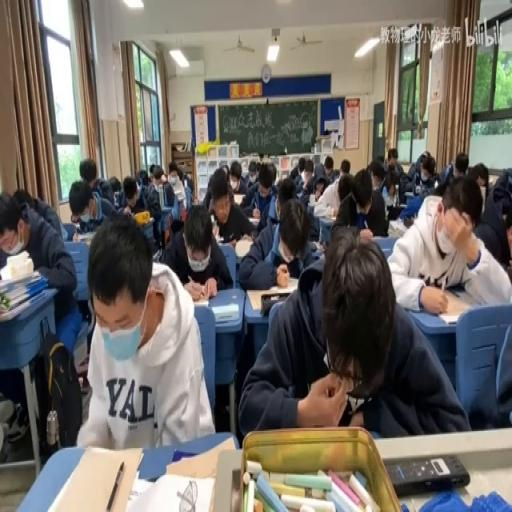calculator: (40, 444, 144, 509), (124, 469, 216, 509), (164, 434, 234, 479), (428, 284, 474, 322), (246, 283, 298, 310), (0, 289, 45, 320), (0, 268, 42, 292), (212, 302, 238, 322), (234, 238, 252, 258), (312, 202, 334, 218), (387, 218, 406, 236), (75, 230, 95, 244), (191, 296, 210, 306), (136, 214, 153, 224), (232, 192, 245, 205), (310, 240, 324, 252), (246, 214, 260, 224), (384, 192, 394, 206), (487, 175, 498, 186), (309, 193, 316, 205), (394, 202, 406, 209), (405, 190, 414, 198)
paper: (238, 224, 464, 440), (0, 189, 77, 448), (162, 201, 230, 290), (467, 312, 512, 430), (330, 168, 386, 237), (474, 170, 511, 268), (290, 173, 330, 242), (121, 172, 160, 242), (242, 160, 280, 224), (404, 150, 440, 200), (78, 156, 114, 206), (153, 160, 181, 214), (202, 164, 234, 210), (438, 149, 470, 192), (378, 145, 404, 192), (275, 178, 295, 206), (12, 188, 32, 212), (322, 155, 338, 182), (179, 165, 192, 195), (108, 175, 122, 200), (370, 172, 384, 191), (123, 185, 137, 203), (267, 162, 277, 184), (137, 168, 149, 186), (296, 155, 306, 176), (229, 166, 240, 184), (315, 181, 325, 199), (340, 158, 350, 175), (290, 164, 299, 180), (152, 170, 162, 184), (420, 156, 430, 170), (248, 169, 258, 182), (221, 164, 229, 179), (304, 165, 311, 181), (375, 155, 384, 165), (149, 162, 155, 176)
person: (384, 452, 470, 494), (404, 213, 414, 226)
